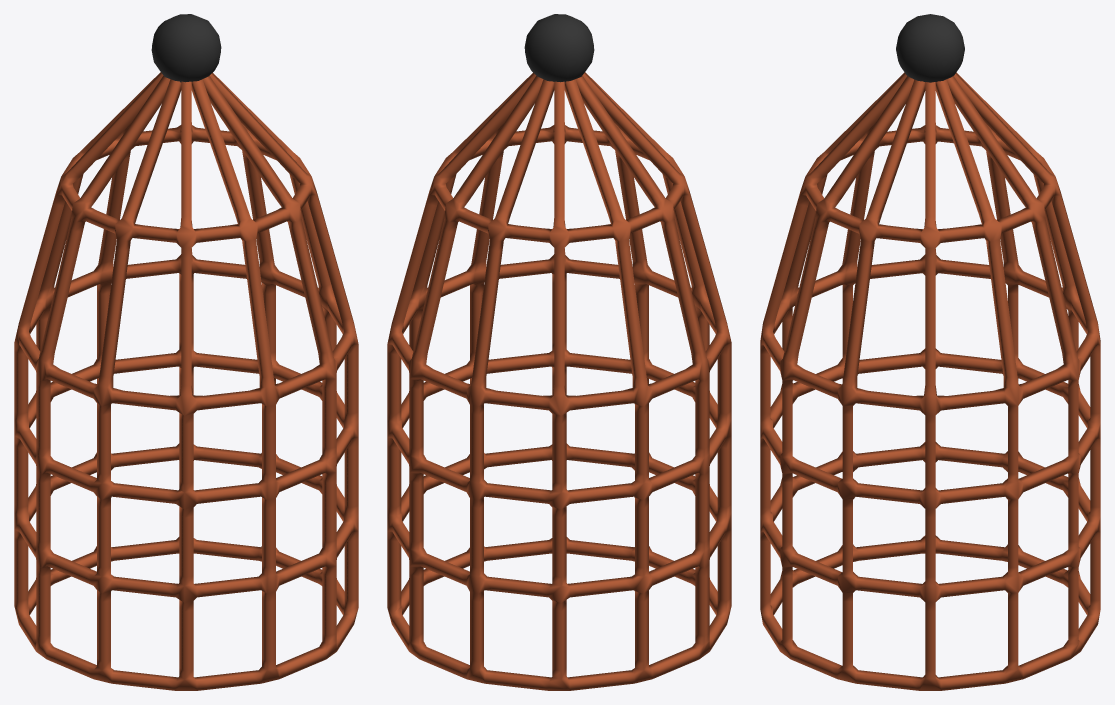
The model's file is rocket_frame.fbx.
3 views of the same model, side by side, from view 1: azimuth 30°, elevation 25°; view 2: azimuth 150°, elevation 25°; view 3: azimuth 270°, elevation 25° (orthographic).
Parts seen in each view (by area): view 1: Rocket, Tip; view 2: Rocket, Tip; view 3: Rocket, Tip.
Part boxes in pixels (<box>): Rocket: <box>14,72,358,690</box>; Tip: <box>151,14,221,82</box>; Rocket: <box>387,72,731,690</box>; Tip: <box>524,14,594,82</box>; Rocket: <box>760,72,1100,690</box>; Tip: <box>896,14,964,82</box>.
Size of the model in its own units: 1650 by 3223 by 1650.
